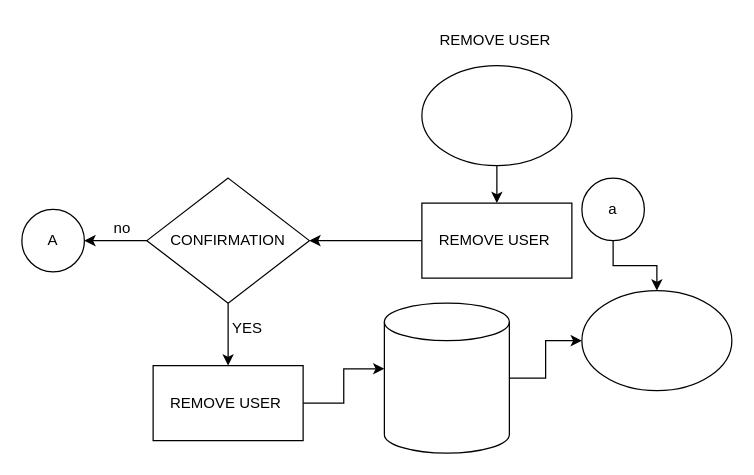
This 754x475 diagram has some shape labels left out. The centre of each missing label's shape, as x and y in pixels:
delete from orders, processing, return cancel tables where userID: pixel 446 377
END: pixel 656 340
START: pixel 496 115
